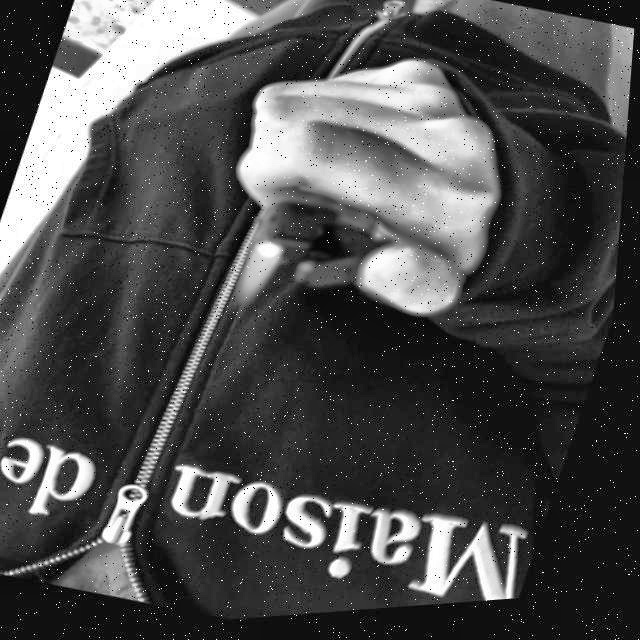Fire: (232, 236, 290, 320)
